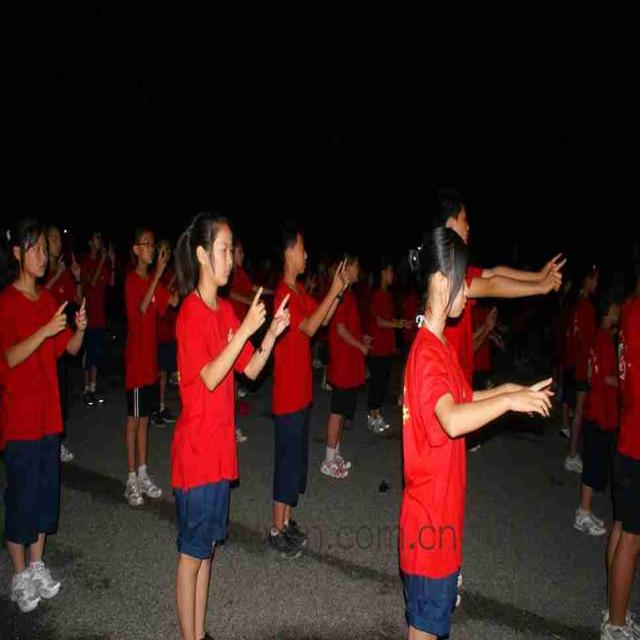non-fight: (397, 223, 551, 640), (166, 203, 294, 639), (0, 201, 93, 634)
